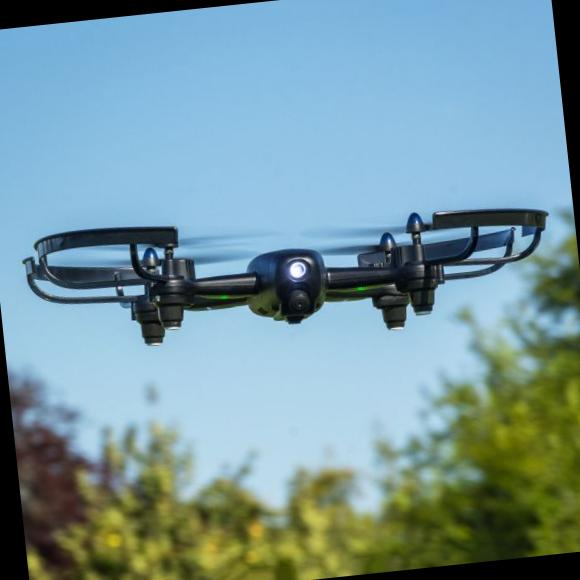drone: (18, 141, 574, 383)
